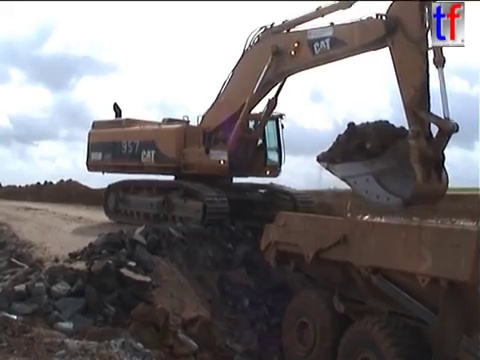excavator: (83, 1, 463, 240)
truck: (256, 189, 480, 360)
